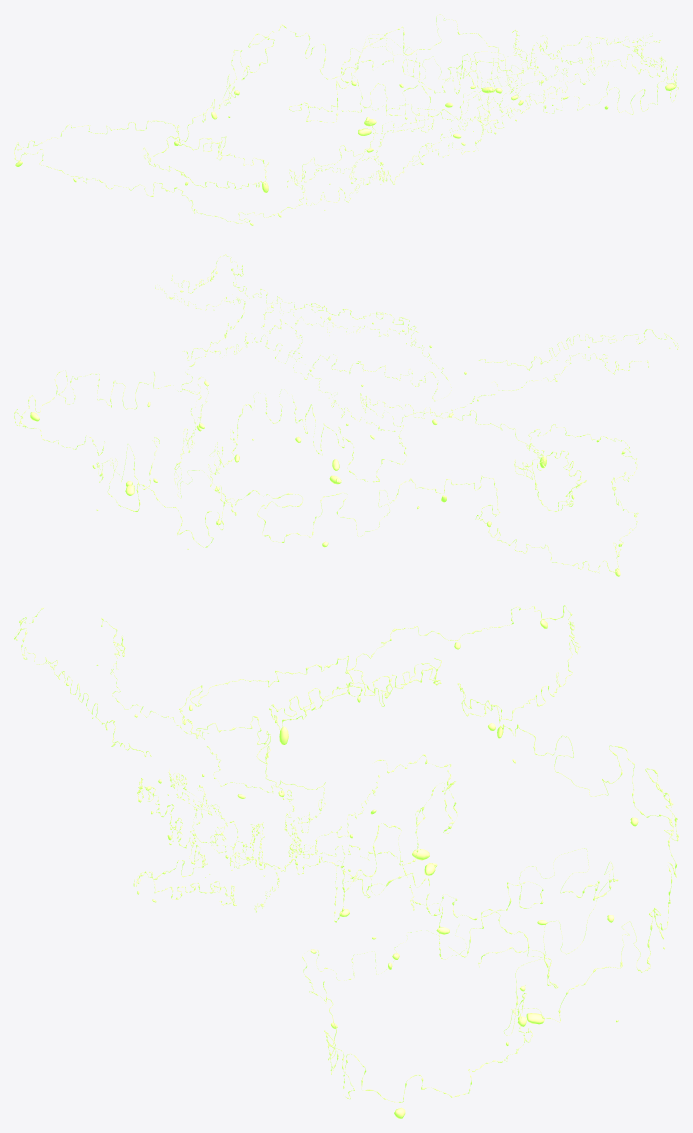
The model's file is Silk_TunnelOnly_V4_dream.glb.
3 renders of one model, top to bottom at view 1: azimuth 30°, elevation 25°; view 2: azimuth 150°, elevation 25°; view 3: azimuth 270°, elevation 25°, orthographic. The views are drawn at different scales.
Parts seen in each view (by area): view 1: Silk; view 2: Silk; view 3: Silk.
Part boxes in pixels (<box>): Silk: <box>14,14,678,225</box>; Silk: <box>14,254,678,576</box>; Silk: <box>14,605,678,1118</box>.
Bounding box in the file's own units: 107 × 20.43 × 67.66.
